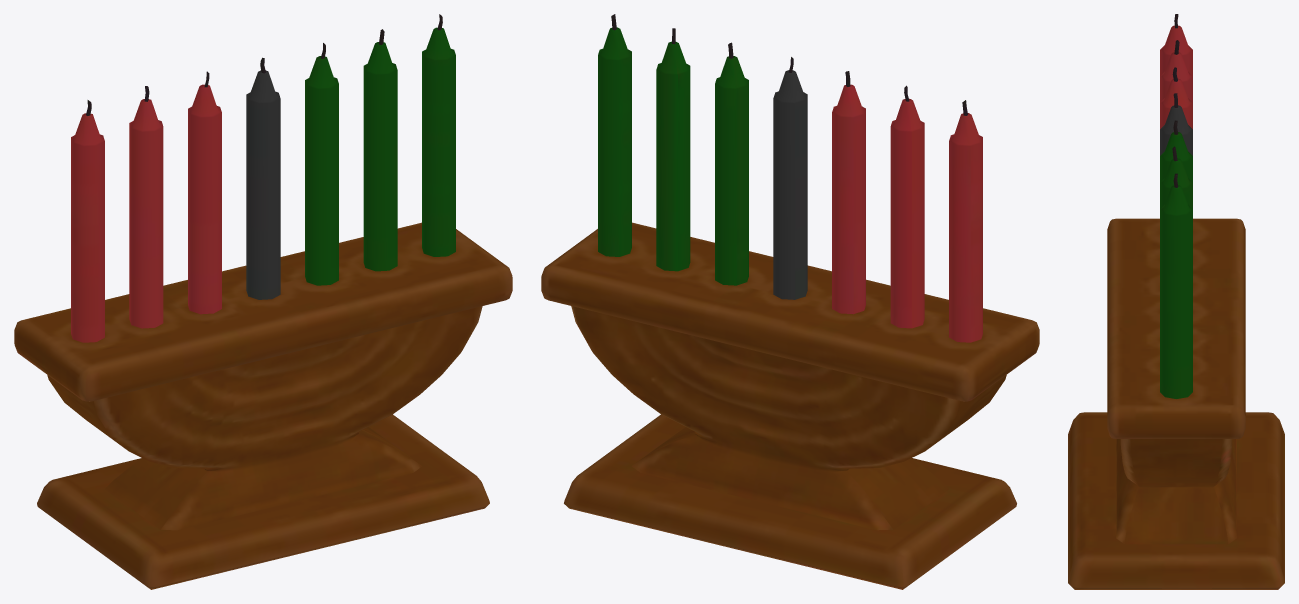
3 renders of one model, left to right at view 1: azimuth 30°, elevation 25°; view 2: azimuth 150°, elevation 25°; view 3: azimuth 270°, elevation 25°, orthographic. The views are drawn at different scales.
Bounding box in the file's own units: 7.83 × 7.82 × 3.65.
Materials: 1 (1 with a texture image).
